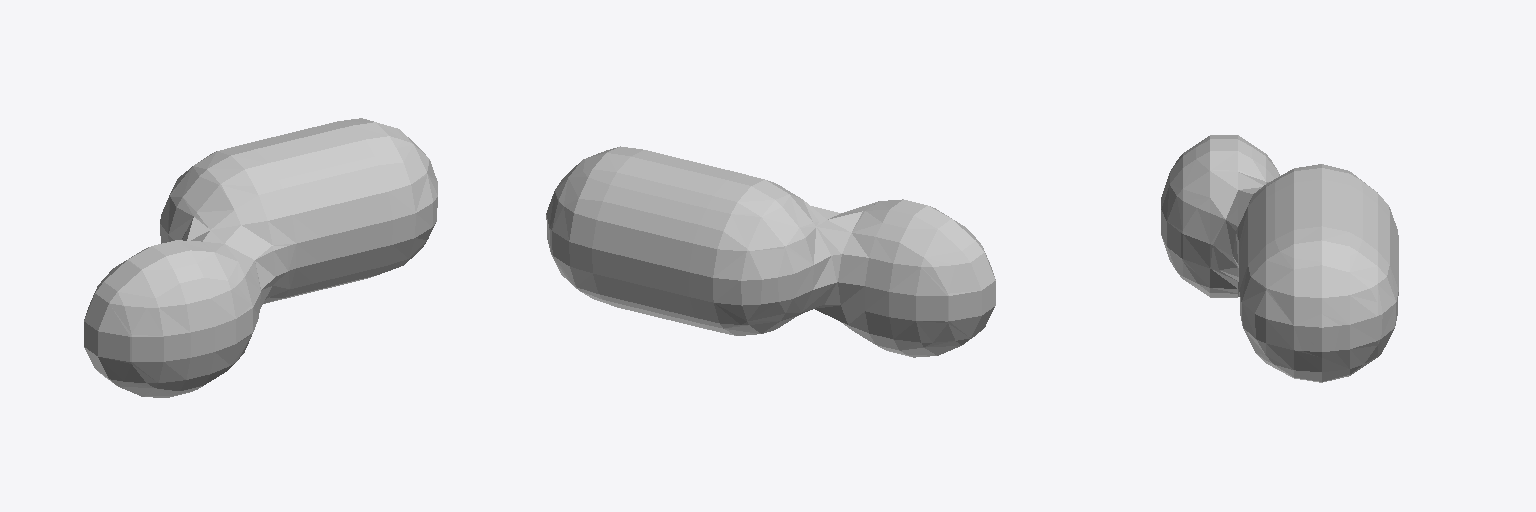
File: strange.obj
3 renders of one model, left to right at view 1: azimuth 30°, elevation 25°; view 2: azimuth 150°, elevation 25°; view 3: azimuth 270°, elevation 25°, orthographic.
Parts seen in each view (by area): view 1: Mball_Meta; view 2: Mball_Meta; view 3: Mball_Meta.
Part boxes in pixels (x1,y1,x2,y2): Mball_Meta: (84, 118, 437, 397); Mball_Meta: (546, 146, 995, 357); Mball_Meta: (1161, 135, 1398, 382).
Bounding box in the file's own units: 6.4 × 2.74 × 3.41.